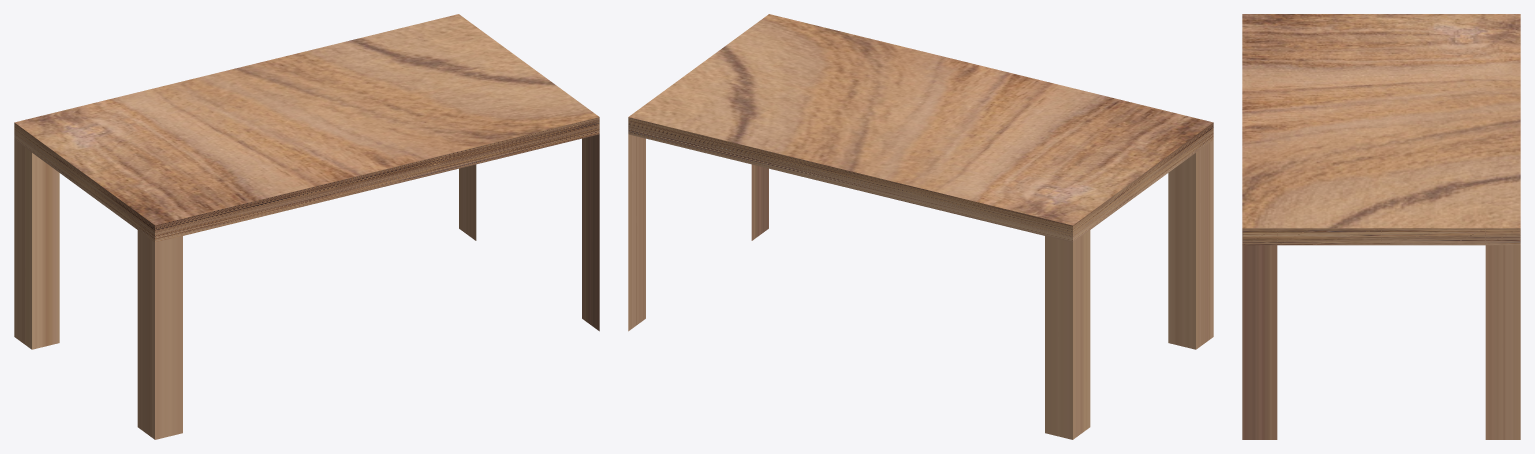
Rendered from Assiignment1.fbx.
The picture shows the model from 3 angles, left to right: view 1: azimuth 30°, elevation 25°; view 2: azimuth 150°, elevation 25°; view 3: azimuth 270°, elevation 25°; orthographic projection.
Visible parts, largest first — view 1: Cube; view 2: Cube; view 3: Cube.
Part boxes in pixels (x1=…): Cube: x1=14, y1=14, x2=599, y2=439; Cube: x1=628, y1=14, x2=1213, y2=439; Cube: x1=1242, y1=14, x2=1520, y2=439.
Bounding box in the file's own units: 793 × 366 × 435.
Materials: 1 (1 with a texture image).
